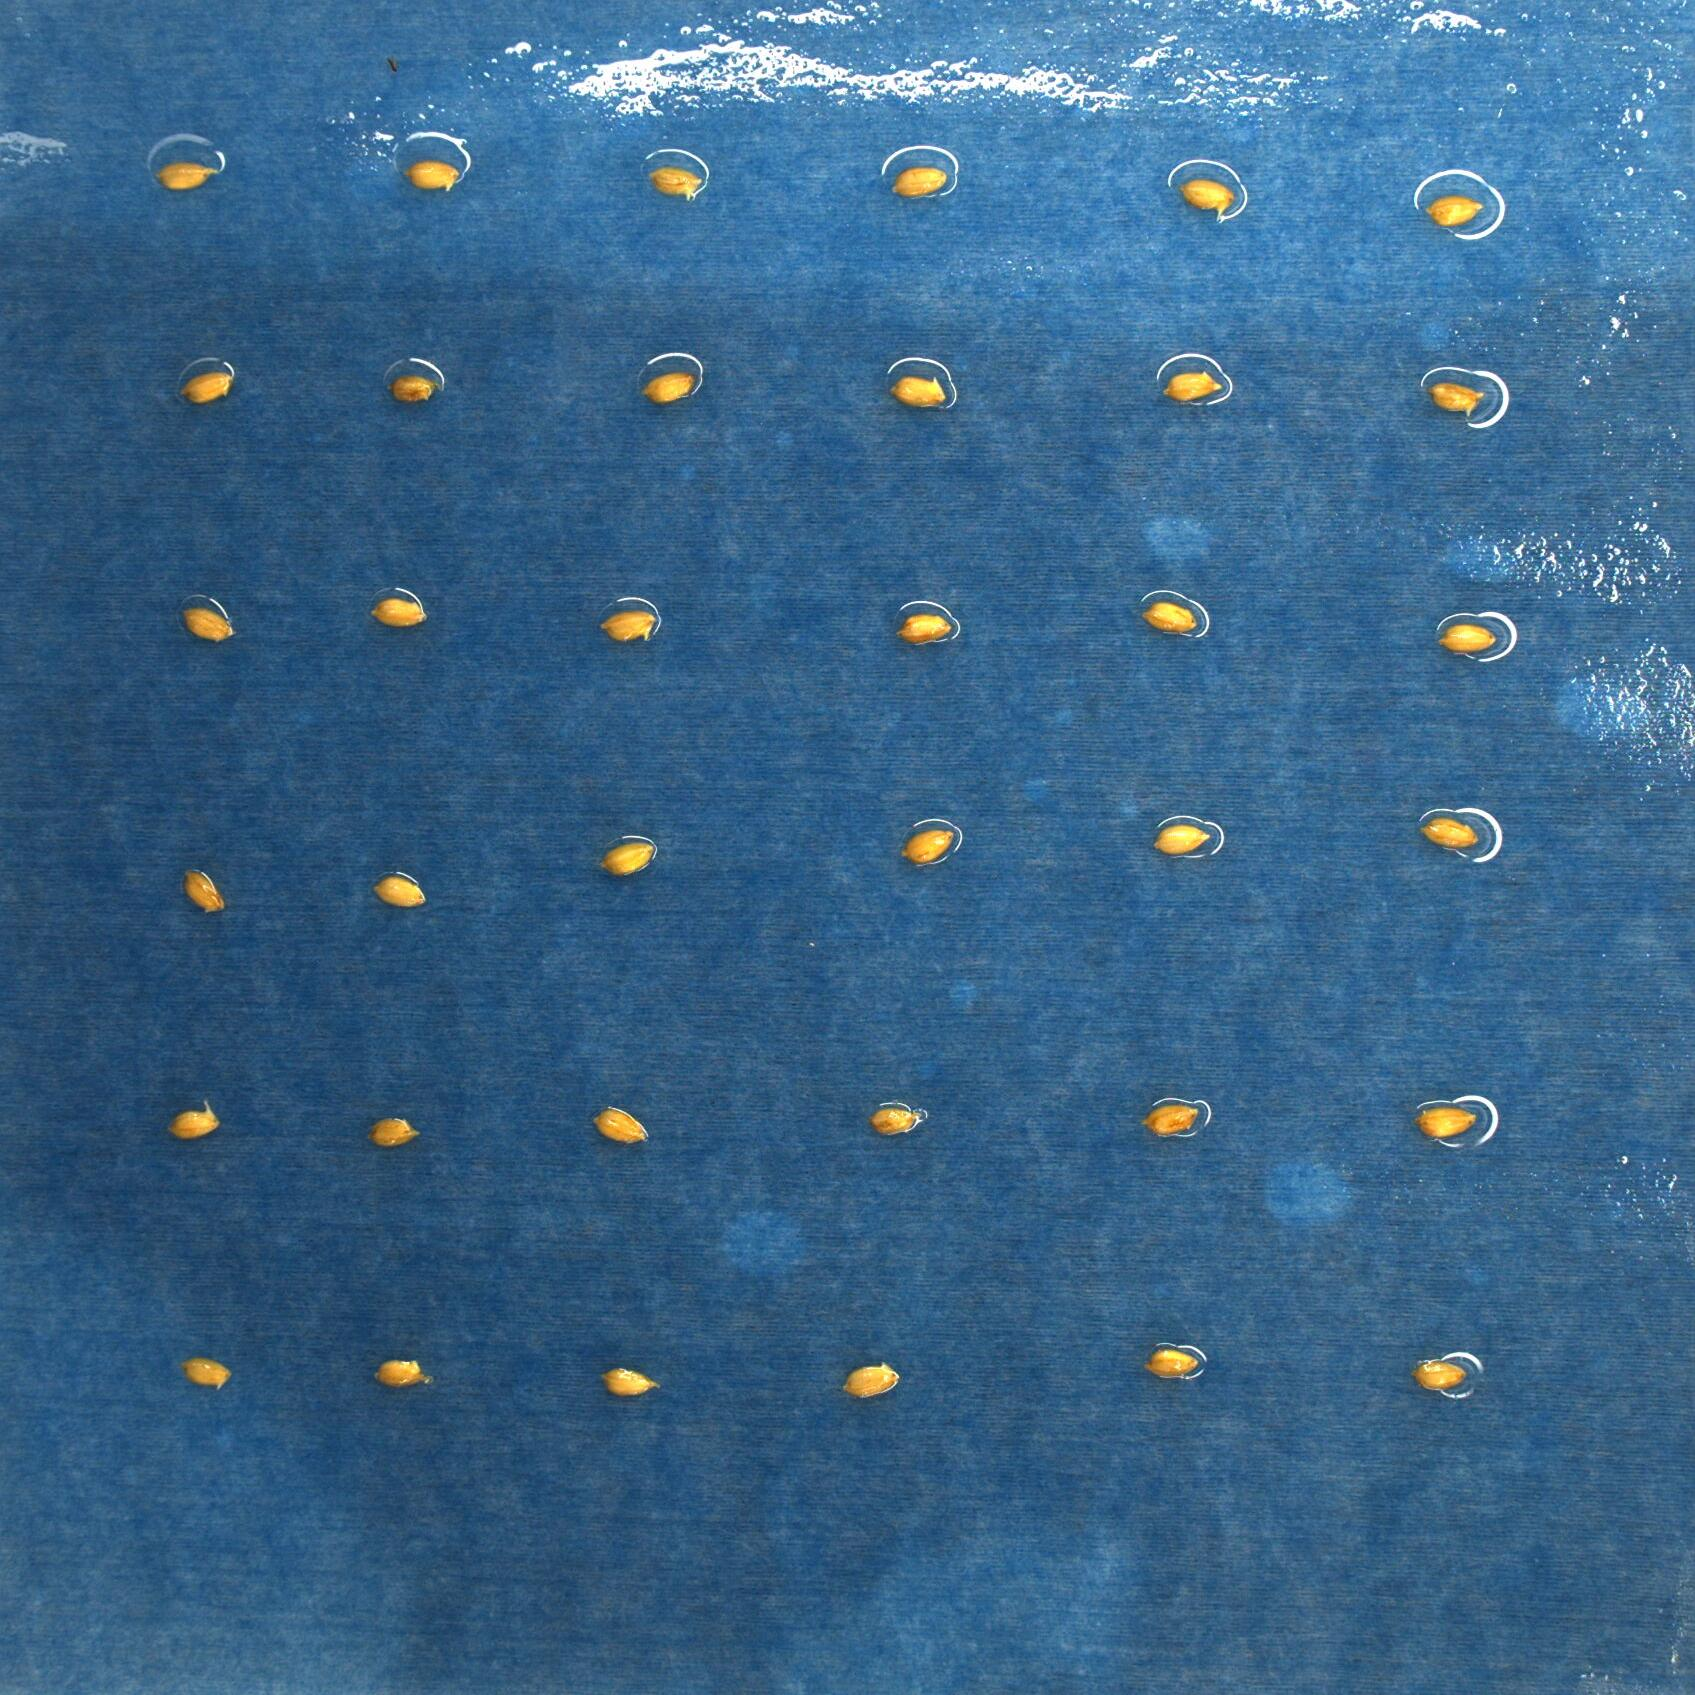not sprout: (590, 1101, 647, 1142), (168, 1097, 220, 1142), (891, 374, 948, 414), (1159, 366, 1222, 404), (1139, 1346, 1198, 1385), (1178, 179, 1232, 220), (897, 826, 953, 866), (174, 365, 231, 404), (598, 840, 655, 879), (1409, 1108, 1478, 1141), (838, 1361, 900, 1397), (400, 158, 459, 196), (1139, 1101, 1198, 1138), (1423, 380, 1487, 414), (899, 612, 953, 650), (369, 871, 424, 910), (872, 1099, 927, 1138), (1152, 823, 1211, 858), (636, 369, 692, 407), (1141, 598, 1201, 632), (1437, 624, 1498, 658), (891, 161, 947, 197), (365, 598, 425, 630), (1419, 820, 1478, 852), (182, 869, 225, 913), (151, 158, 217, 186), (1412, 1357, 1467, 1391), (646, 168, 702, 200), (369, 1358, 430, 1388), (182, 605, 233, 640), (601, 610, 657, 641), (371, 1113, 418, 1150), (1426, 199, 1487, 227), (390, 373, 438, 405), (601, 1371, 661, 1395), (186, 1357, 230, 1388)
